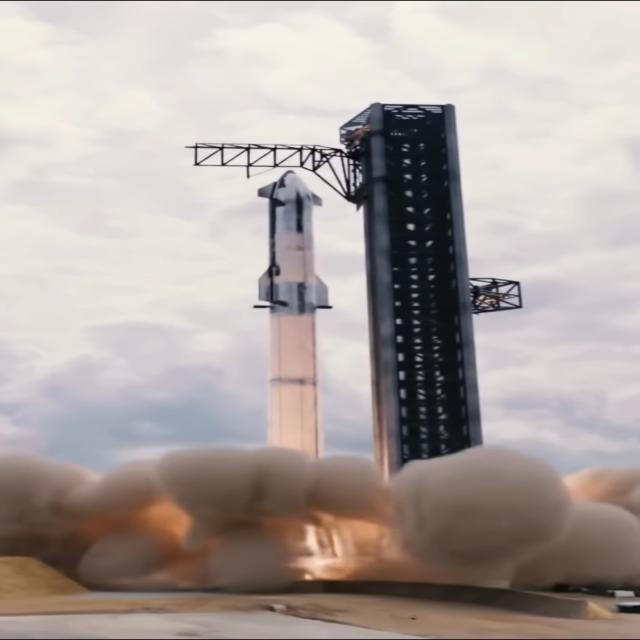missile: (246, 172, 335, 478)
